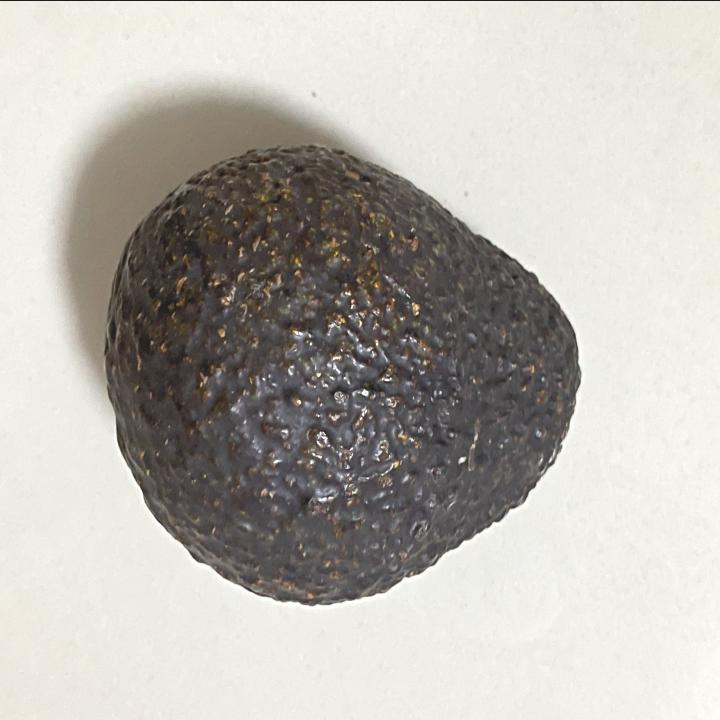Level2: (100, 131, 590, 614)
